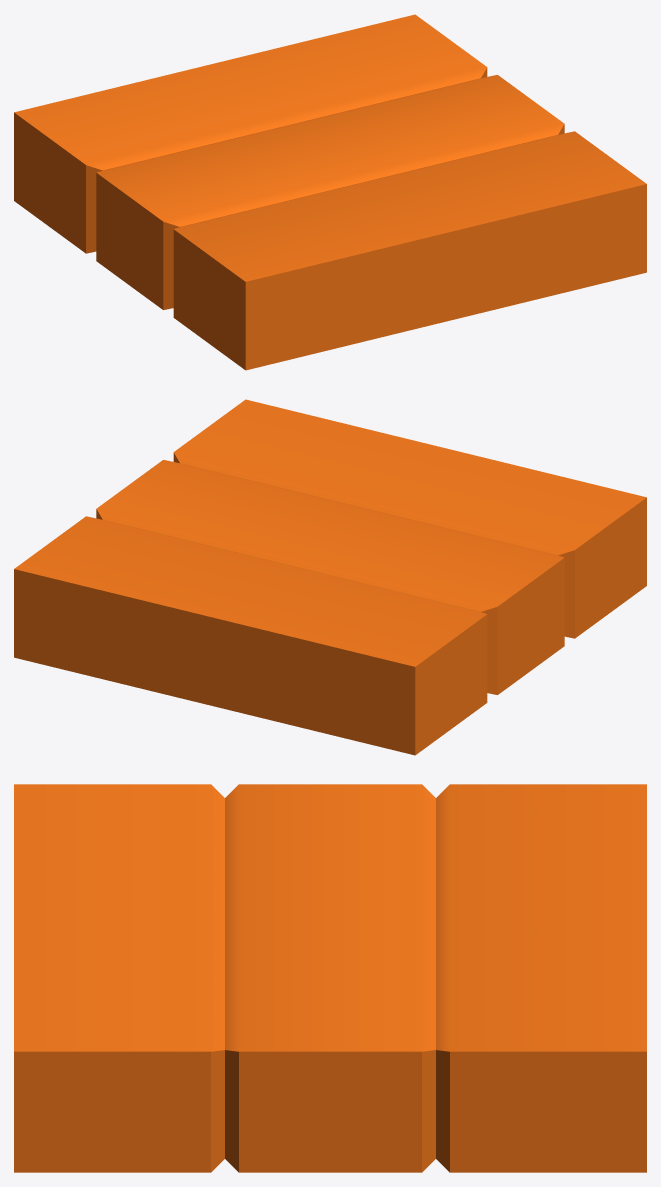
File: Counter_Top_02_S.fbx
3 renders of one model, top to bottom at view 1: azimuth 30°, elevation 25°; view 2: azimuth 150°, elevation 25°; view 3: azimuth 270°, elevation 25°, orthographic. The views are drawn at different scales.
Parts seen in each view (by area): view 1: Counter_Top_02_S; view 2: Counter_Top_02_S; view 3: Counter_Top_02_S.
Part boxes in pixels (left/top/right/bottom): Counter_Top_02_S: left=14, top=14, right=646, bottom=370; Counter_Top_02_S: left=14, top=399, right=646, bottom=755; Counter_Top_02_S: left=14, top=784, right=646, bottom=1172.
Size of the model in its own units: 100 by 21.09 by 100.
